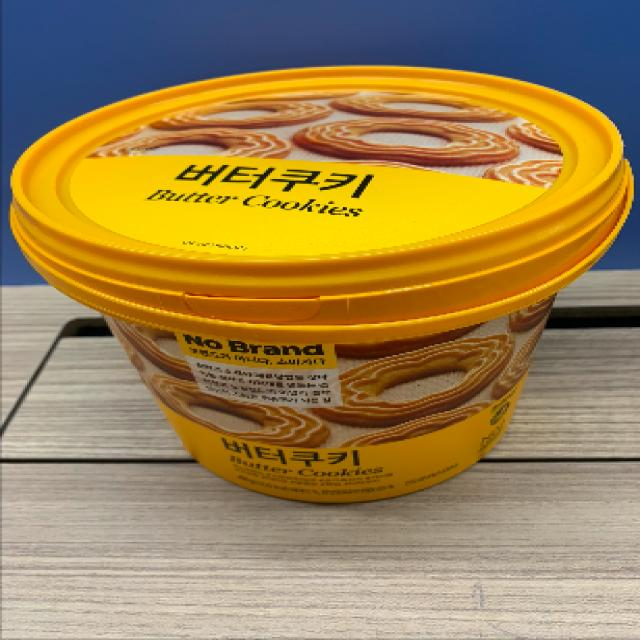object_name: (40, 94, 637, 495)
